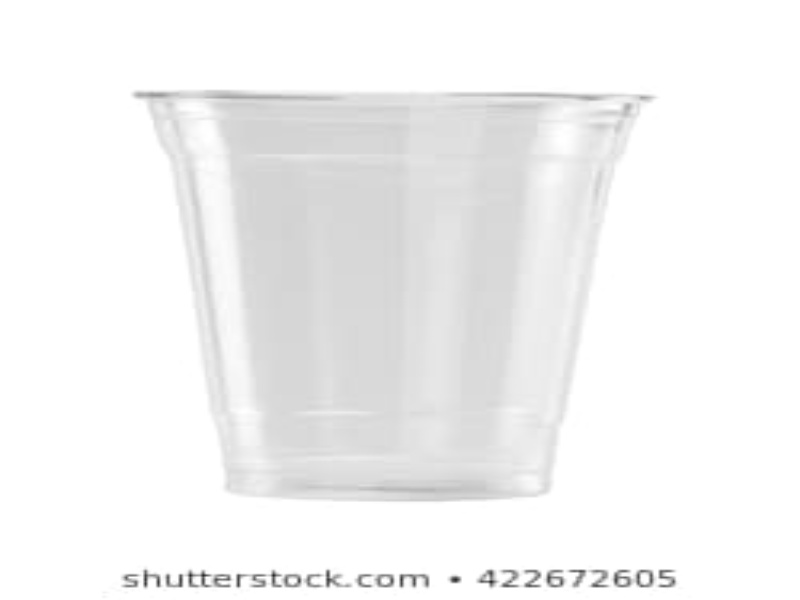plastic-cup: (125, 86, 670, 510)
